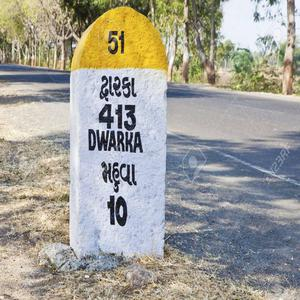kmstone: (70, 4, 169, 262)
